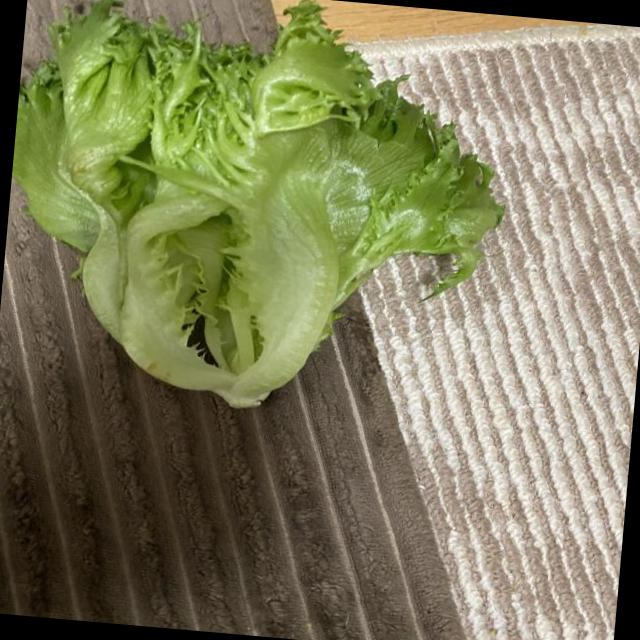Lettuce-Ready-to-Harvest: (12, 0, 503, 406)
